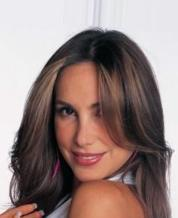face: (54, 99, 118, 168)
